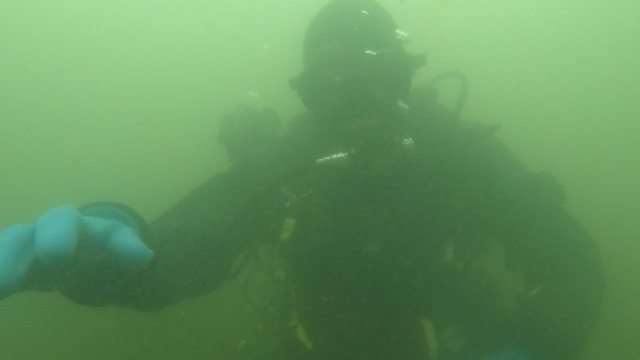Diver: (11, 6, 601, 348)
Hand: (4, 190, 164, 306)
Head: (292, 1, 426, 150)
